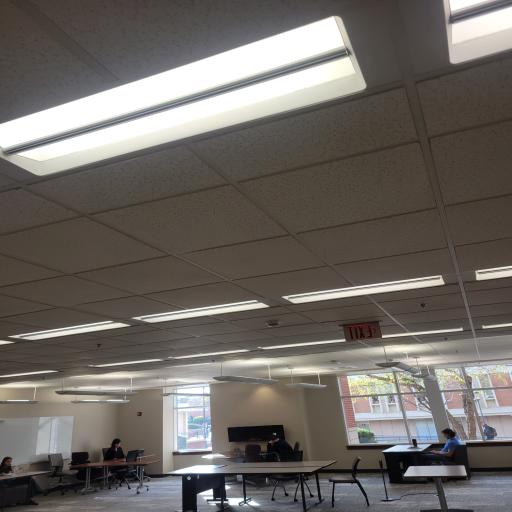exit sign: (336, 318, 383, 343)
fire alarm signal: (262, 318, 282, 330)
